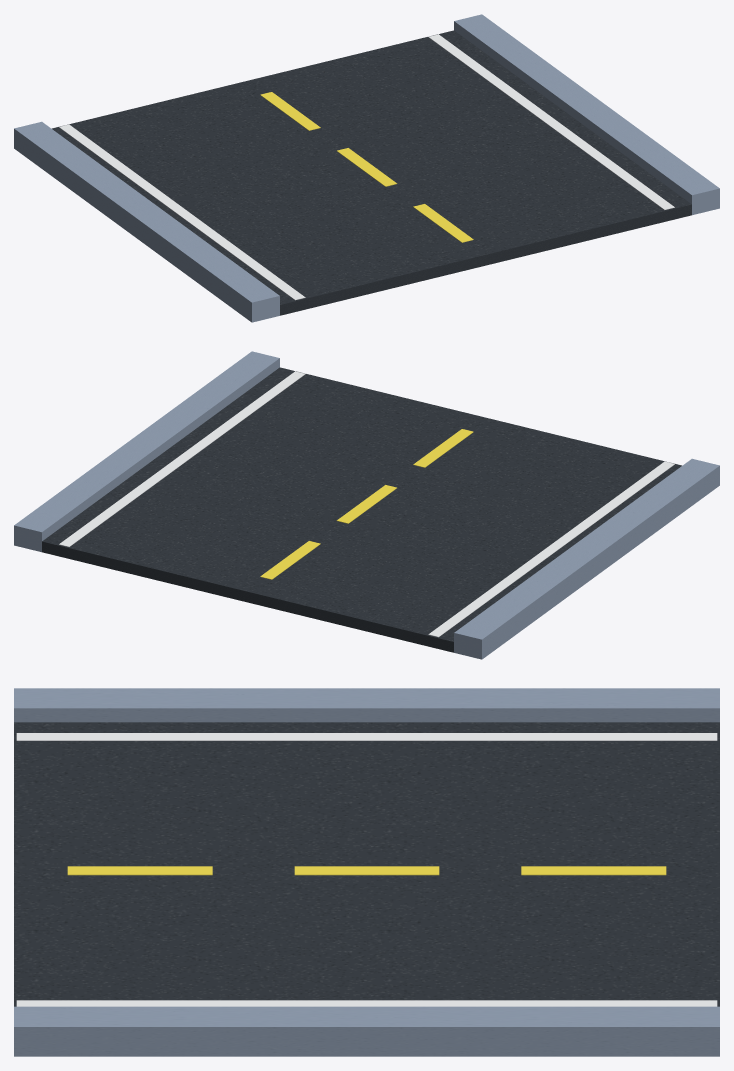
File: road_straight_wide.glb
The picture shows the model from 3 angles, top to bottom: view 1: azimuth 30°, elevation 25°; view 2: azimuth 150°, elevation 25°; view 3: azimuth 270°, elevation 25°; orthographic projection. The views are drawn at different scales.
Parts seen in each view (by area): view 1: road_straight_wide; view 2: road_straight_wide; view 3: road_straight_wide.
Part boxes in pixels (bbox=[...]): road_straight_wide: bbox=[14, 14, 719, 322]; road_straight_wide: bbox=[14, 351, 719, 659]; road_straight_wide: bbox=[14, 688, 719, 1056].
Bounding box in the file's own units: 6.36 × 0.26 × 5.6.
Materials: 4 (2 with a texture image).
